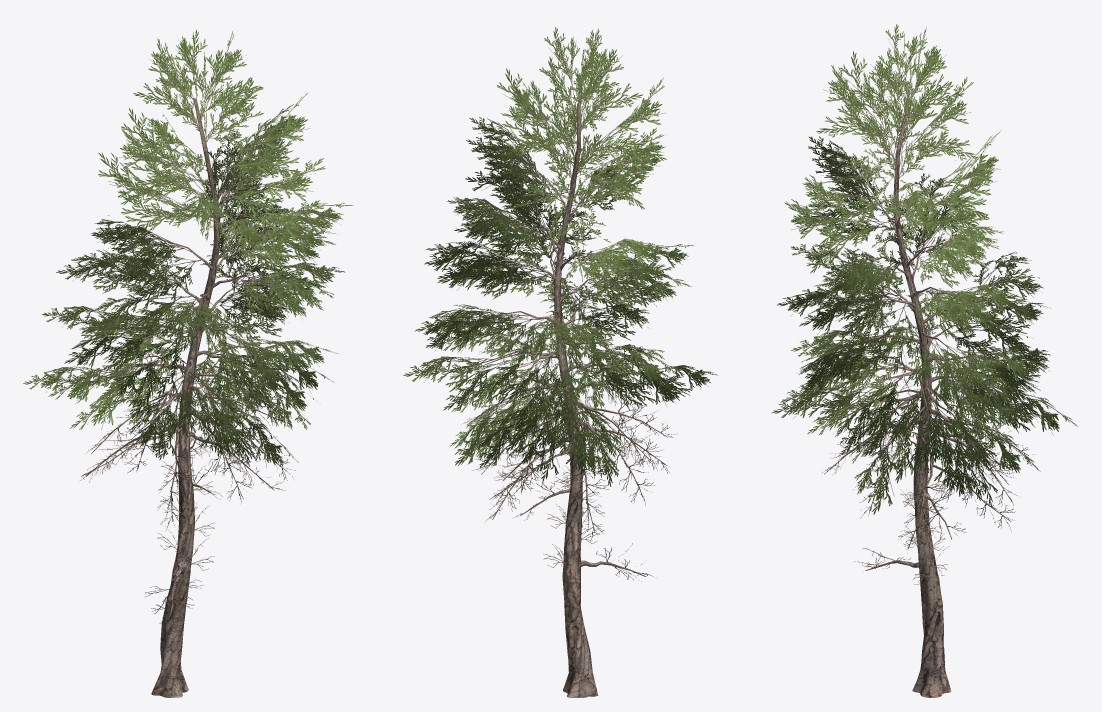
The picture shows the model from 3 angles, left to right: view 1: azimuth 30°, elevation 25°; view 2: azimuth 150°, elevation 25°; view 3: azimuth 270°, elevation 25°; orthographic projection. The views are drawn at different scales.
Parts seen in each view (by area): view 1: Tree_1, Tree_0, Tree_2; view 2: Tree_1, Tree_0, Tree_2; view 3: Tree_1, Tree_0, Tree_2.
Part boxes in pixels (x1,y1,x2,y2): Tree_1: (23, 30, 353, 468); Tree_0: (81, 98, 287, 697); Tree_2: (79, 351, 295, 623); Tree_1: (403, 27, 717, 486); Tree_0: (465, 103, 667, 697); Tree_2: (463, 360, 677, 580); Tree_1: (772, 24, 1077, 514); Tree_0: (824, 101, 1028, 697); Tree_2: (816, 370, 1035, 584).
Bounding box in the file's own units: 3.12 × 7.42 × 3.24.
3 materials, 3 textured.
